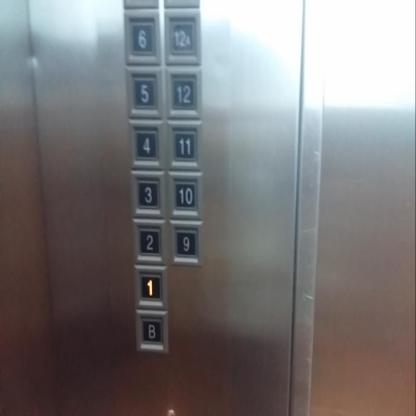1: (133, 262, 168, 312)
10: (167, 169, 204, 219)
11: (164, 118, 204, 172)
12: (164, 63, 202, 122)
12A: (162, 8, 203, 62)
2: (132, 216, 166, 266)
3: (130, 167, 166, 220)
4: (129, 117, 165, 171)
5: (126, 64, 164, 120)
6: (123, 6, 161, 66)
9: (168, 216, 204, 269)
B: (135, 306, 170, 354)
